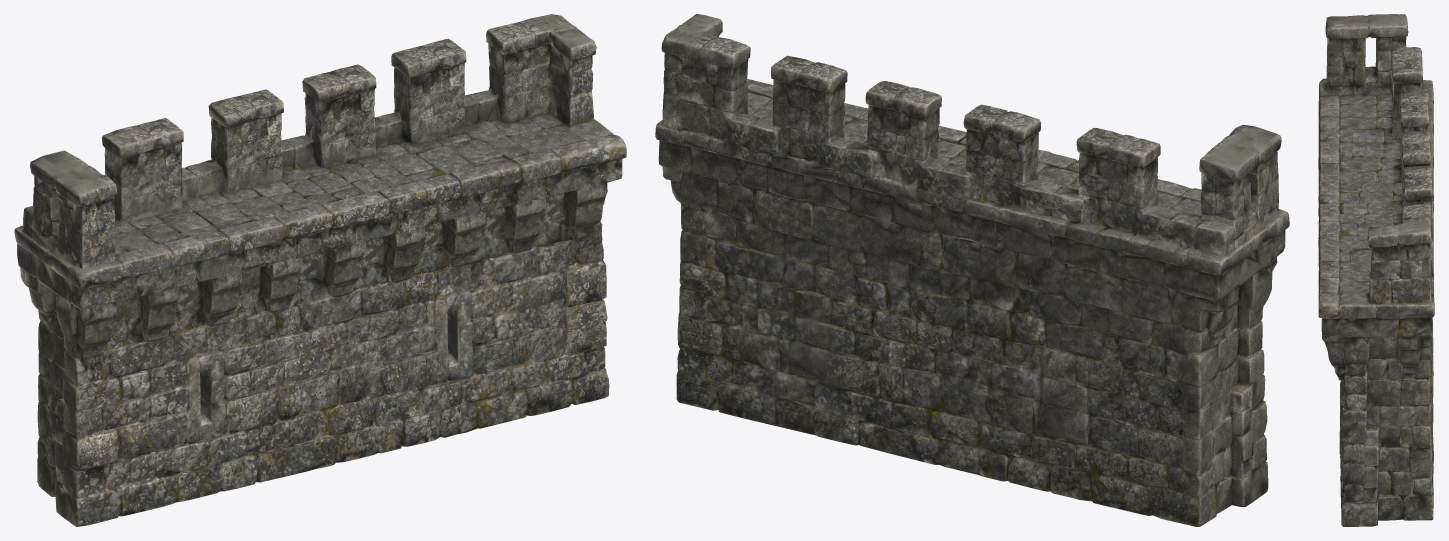
Rendered from fort_m_desert_wall.glb.
3 renders of one model, left to right at view 1: azimuth 30°, elevation 25°; view 2: azimuth 150°, elevation 25°; view 3: azimuth 270°, elevation 25°, orthographic. The views are drawn at different scales.
Parts seen in each view (by area): view 1: fort_m_desert_wall; view 2: fort_m_desert_wall; view 3: fort_m_desert_wall.
Boxes of the visible parts, <box> form: fort_m_desert_wall: <box>14,14,626,526</box>; fort_m_desert_wall: <box>655,14,1289,526</box>; fort_m_desert_wall: <box>1318,14,1434,526</box>.
Bounding box in the file's own units: 1.9 × 1.15 × 0.4126.
1 material, 1 textured.
